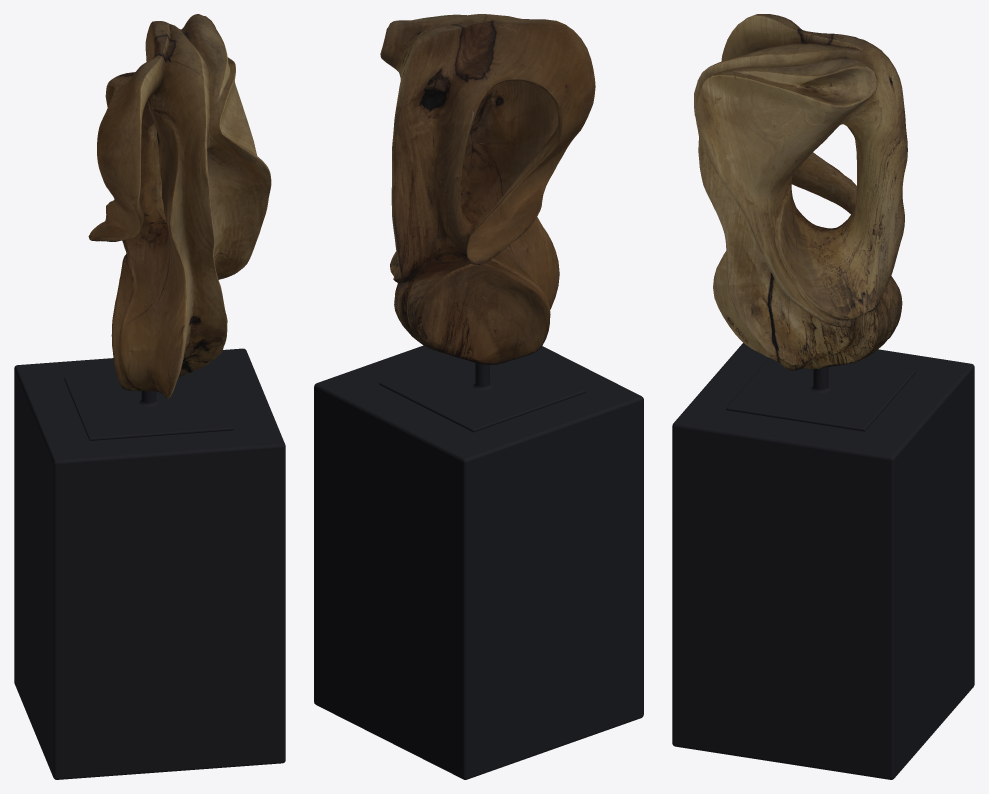
3 renders of one model, left to right at view 1: azimuth 30°, elevation 25°; view 2: azimuth 150°, elevation 25°; view 3: azimuth 270°, elevation 25°, orthographic.
Visible parts, largest first — view 1: pCube2, Escultura_01Escultura_01_002_DVA:polySurface1, pCube9; view 2: pCube2, Escultura_01Escultura_01_002_DVA:polySurface1, pCube9; view 3: pCube2, Escultura_01Escultura_01_002_DVA:polySurface1, pCube9.
Boxes of the visible parts, x1,y1,x2,y2 form: pCube2: (14,348,285,779); Escultura_01Escultura_01_002_DVA:polySurface1: (88,14,271,398); pCube9: (64,367,233,440); pCube2: (314,345,643,779); Escultura_01Escultura_01_002_DVA:polySurface1: (380,14,595,364); pCube9: (379,356,586,432); pCube2: (672,343,974,779); Escultura_01Escultura_01_002_DVA:polySurface1: (694,14,907,370); pCube9: (726,358,915,431).
Size of what is drawn, in the model's own units: 3.57 by 8.94 by 3.55.
Materials: 2 (1 with a texture image).
